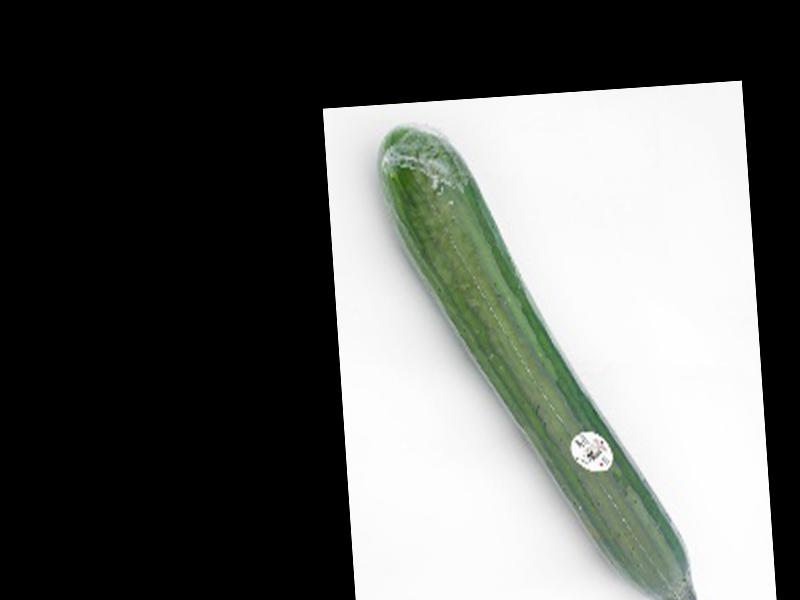Cucumber: (379, 113, 700, 600)
